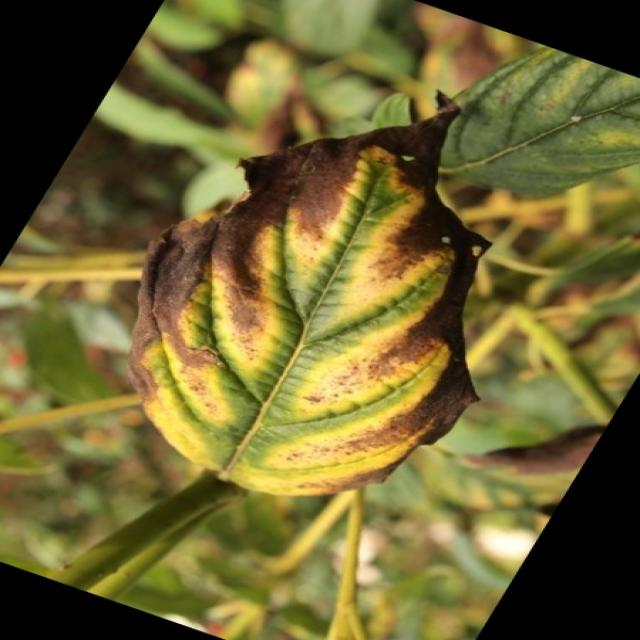Chlorosis: (127, 113, 480, 510)
